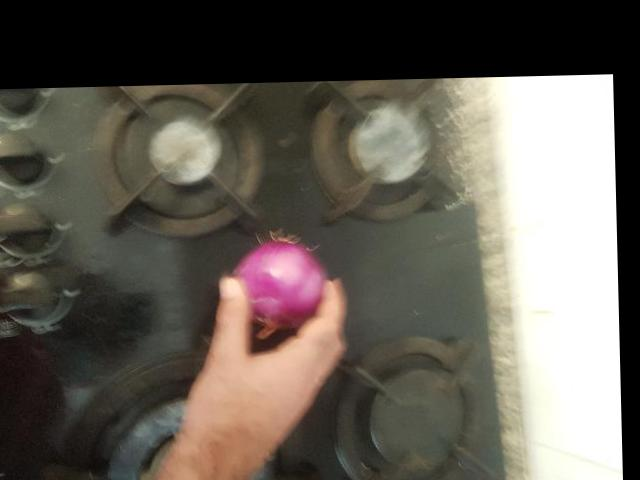onion: (366, 166, 448, 266)
